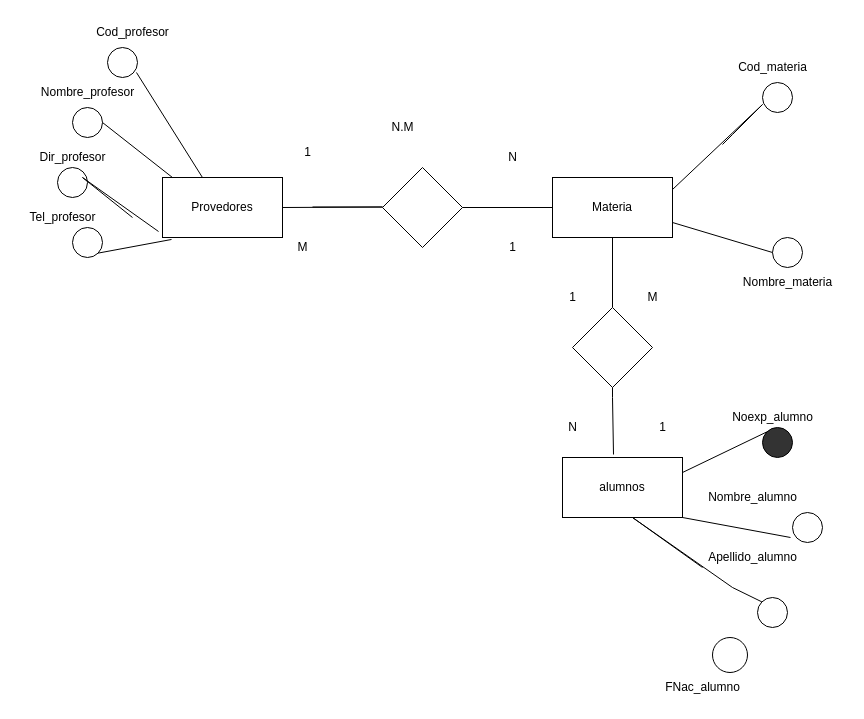
This 864x719 diagram has some shape labels left out. The box of each missing label's shape, as (x1, y1, x2, y2) in pixels:
asignar: (572, 306, 652, 388)
impartir: (382, 166, 462, 248)
